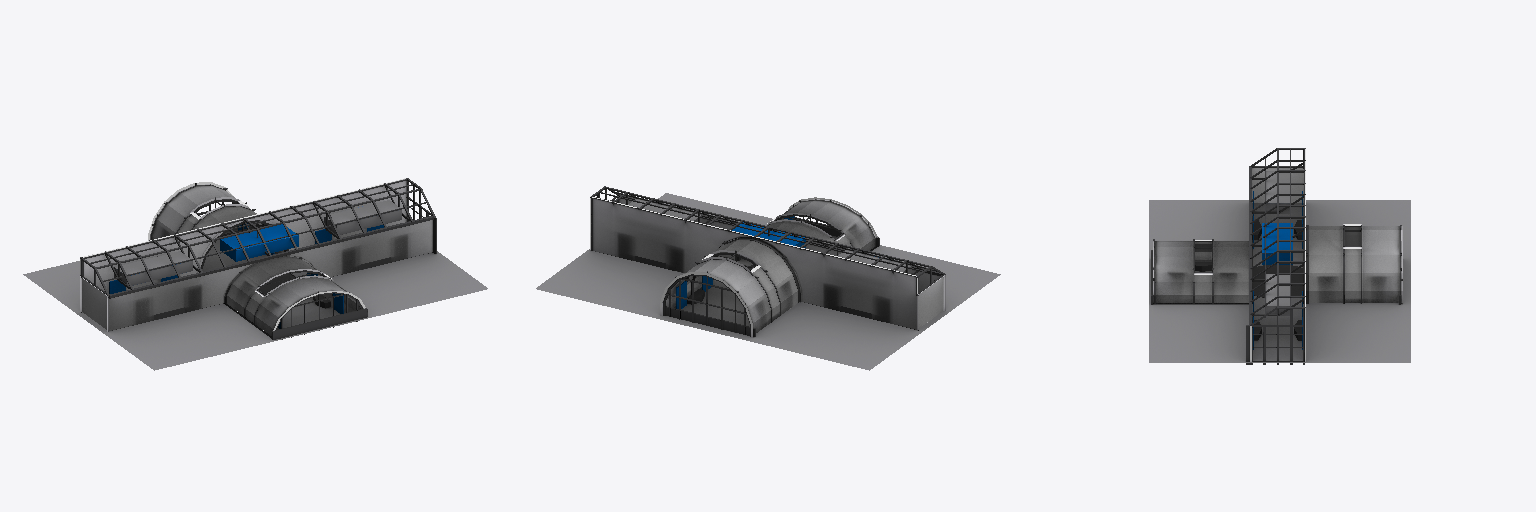
3 views of the same model, side by side, from view 1: azimuth 30°, elevation 25°; view 2: azimuth 150°, elevation 25°; view 3: azimuth 270°, elevation 25° (orthographic).
Parts seen in each view (by area): view 1: Plane001, Box051, Box056, Tube002, Box072, Box076; view 2: Plane001, Box051, Tube002, Box056, Box072; view 3: Plane001, Tube002, Box056, Box072, Box076, Box051.
Boxes of the visible parts, x1,y1,x2,y2 form: Plane001: [23, 228, 487, 370]; Box051: [80, 178, 432, 331]; Box056: [80, 178, 436, 339]; Tube002: [148, 182, 365, 338]; Box072: [109, 200, 401, 328]; Box076: [154, 257, 390, 319]; Plane001: [536, 193, 1000, 370]; Box051: [590, 196, 945, 330]; Tube002: [660, 197, 877, 337]; Box056: [590, 186, 945, 336]; Box072: [628, 199, 911, 308]; Plane001: [1149, 200, 1410, 362]; Tube002: [1153, 224, 1402, 303]; Box056: [1151, 148, 1402, 364]; Box072: [1253, 171, 1302, 349]; Box076: [1195, 220, 1303, 340]; Box051: [1250, 149, 1305, 361].
Bounding box in the file's own units: 70.71 × 11.58 × 48.08.
Materials: 6 (6 with a texture image).